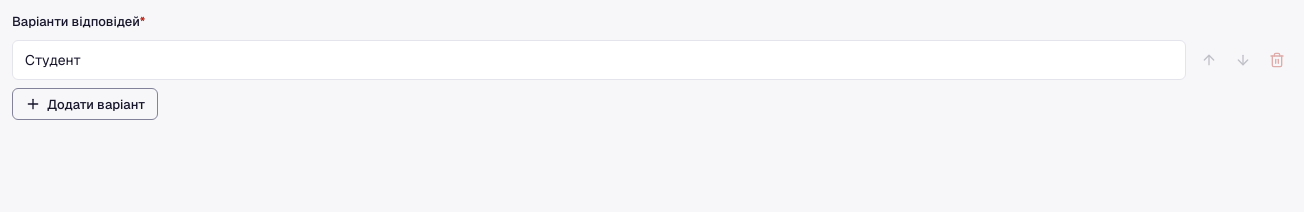
Test: answer options editor › edits each option in its own row
Click the button "Додати варіант". click: (85, 104)
box: top-left (12, 88), bottom-right (158, 120)
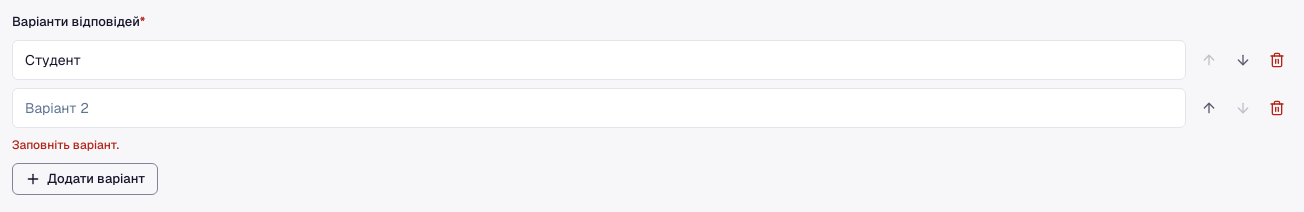
Type "Інше" into the field labelled "Варіант 2". click: (599, 108)
box: top-left (12, 88), bottom-right (1186, 128)
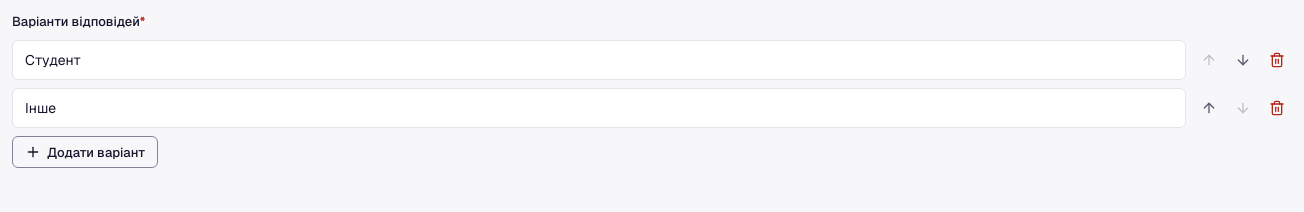
Click the button named "Перемістити варіант 2 вище". click: (1209, 108)
box: top-left (1194, 93), bottom-right (1224, 123)
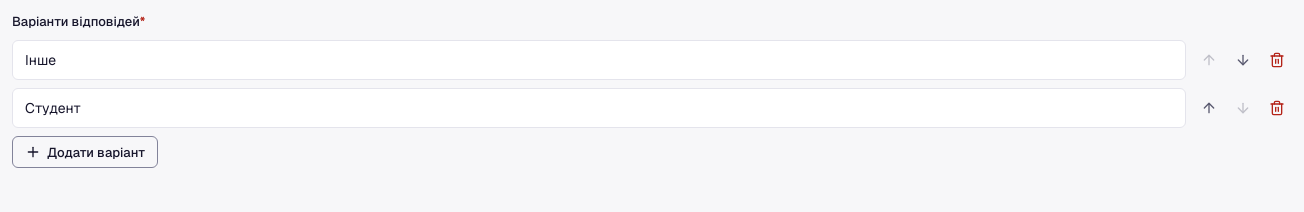
Click the button named "Видалити варіант 1". click: (1277, 60)
box: top-left (1262, 45), bottom-right (1292, 75)
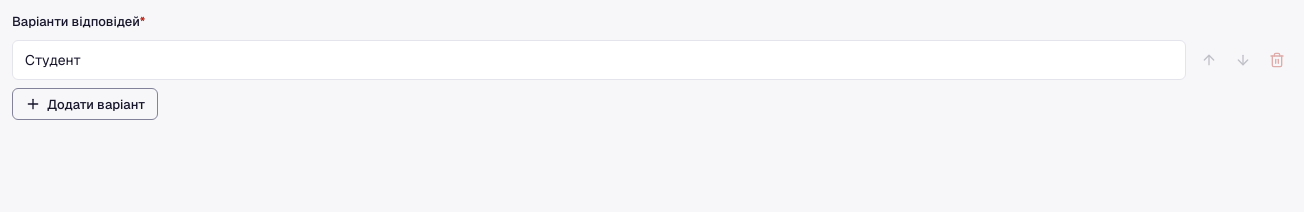
Check: the button named "Видалити варіант 1" is disabled, box top-left (1262, 45), bottom-right (1292, 75)
